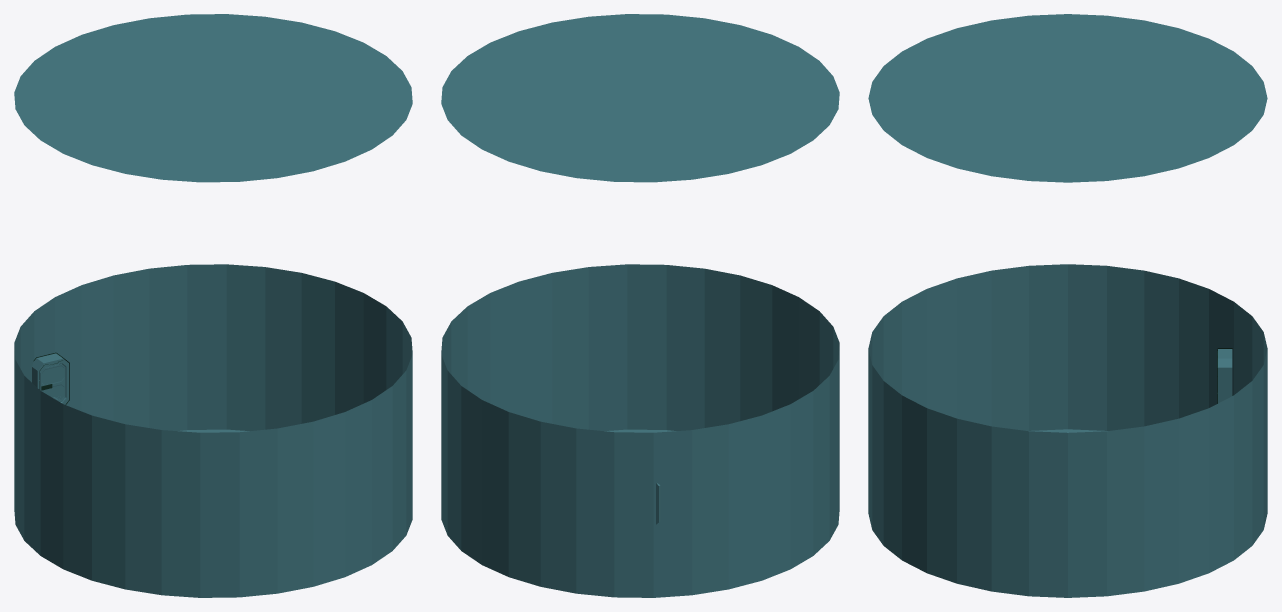
File: Locker_color.fbx
3 renders of one model, left to right at view 1: azimuth 30°, elevation 25°; view 2: azimuth 150°, elevation 25°; view 3: azimuth 270°, elevation 25°, orthographic.
Parts seen in each view (by area): view 1: 円柱, 立方体.086, 立方体.003; view 2: 円柱; view 3: 円柱, 立方体.003.
Part boxes in pixels (x1,y1,x2,y2): 円柱: (14, 14, 412, 597); 立方体.086: (40, 364, 65, 402); 立方体.003: (32, 353, 69, 404); 円柱: (441, 14, 839, 597); 円柱: (868, 14, 1267, 597); 立方体.003: (1218, 349, 1232, 403).
Size of the model in its own units: 4292 by 4927 by 4292.
